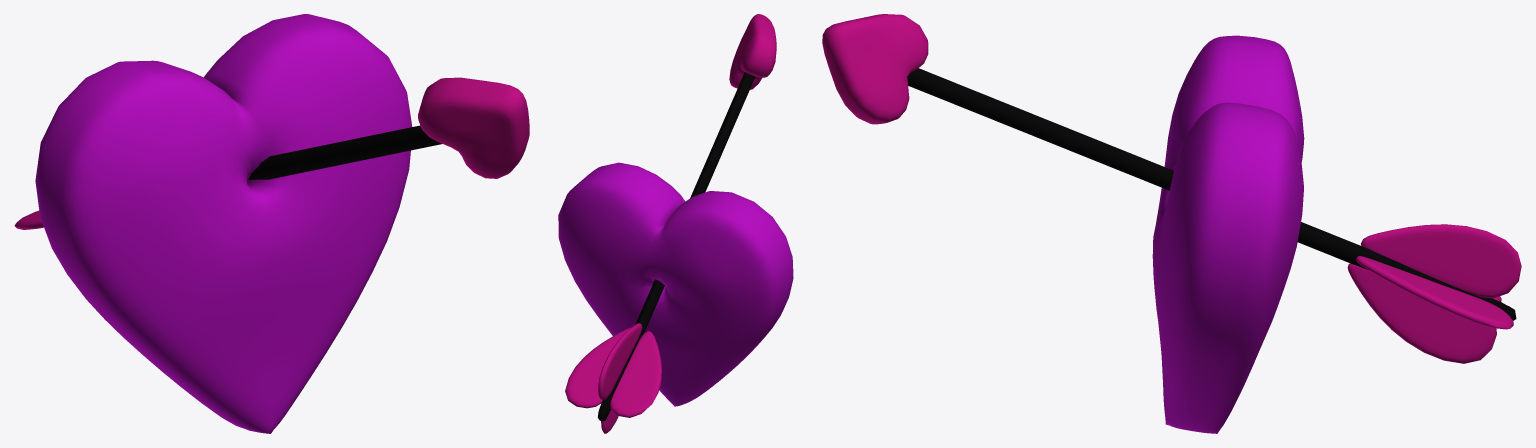
File: heart-with-arrow.FBX
3 renders of one model, left to right at view 1: azimuth 30°, elevation 25°; view 2: azimuth 150°, elevation 25°; view 3: azimuth 270°, elevation 25°, orthographic. The views are drawn at different scales.
Visible parts, largest first — view 1: Group48247, arrow, Ar2; view 2: Group48247, Ar3, Ar2, arrow; view 3: Group48247, Ar3, arrow, Ar2.
Boxes of the visible parts, box(x1,y1,x2,y2) form: Group48247: box(35, 14, 412, 433); arrow: box(418, 77, 529, 178); Ar2: box(248, 125, 441, 180); Group48247: box(558, 162, 793, 406); Ar3: box(565, 323, 661, 433); Ar2: box(597, 72, 755, 421); arrow: box(729, 14, 776, 89); Group48247: box(1152, 35, 1304, 433); Ar3: box(1347, 224, 1521, 363); arrow: box(822, 14, 928, 124); Ar2: box(907, 68, 1516, 320).
Bounding box in the file's own units: 22.65 × 28.76 × 41.43.
